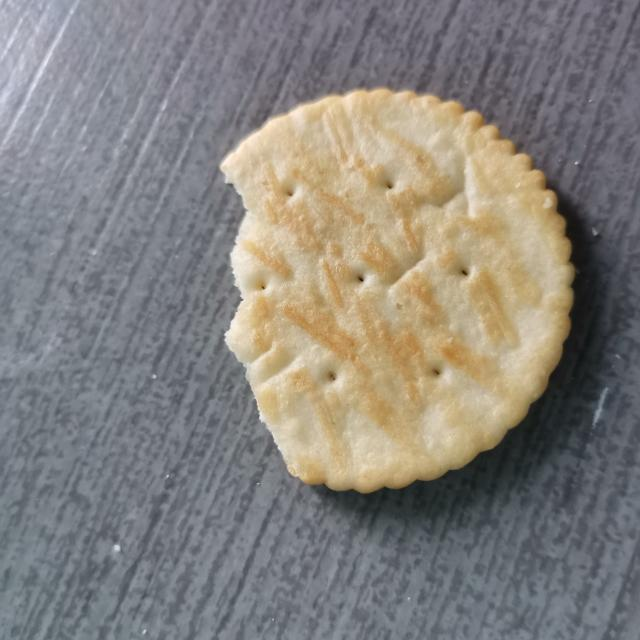Broken: (218, 85, 576, 494)
